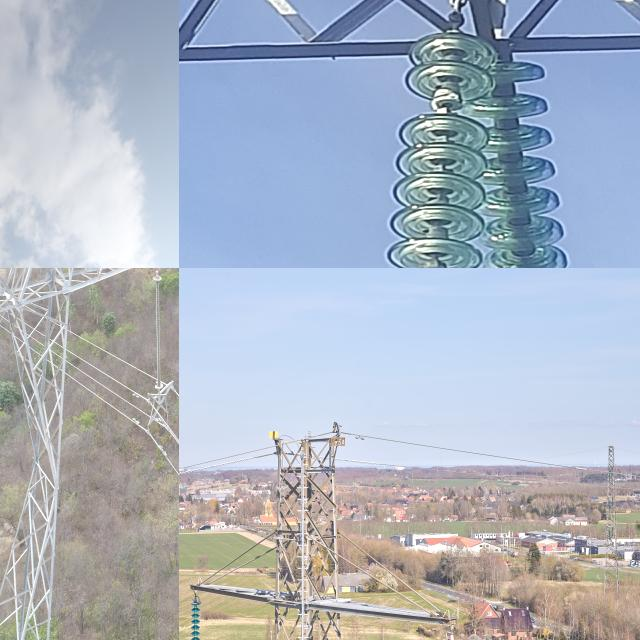杆塔: (0, 268, 136, 640), (269, 427, 343, 640), (601, 433, 626, 608)
正常电缆: (356, 428, 580, 478), (343, 530, 436, 612), (341, 551, 420, 613), (75, 374, 145, 434), (202, 529, 274, 583), (179, 442, 275, 479), (212, 544, 276, 586), (90, 337, 147, 381), (91, 361, 142, 405)
正常绝缘子: (385, 30, 501, 268), (472, 48, 586, 268), (150, 268, 167, 403), (187, 588, 203, 640)
绝缘子破损: (428, 91, 465, 112)
